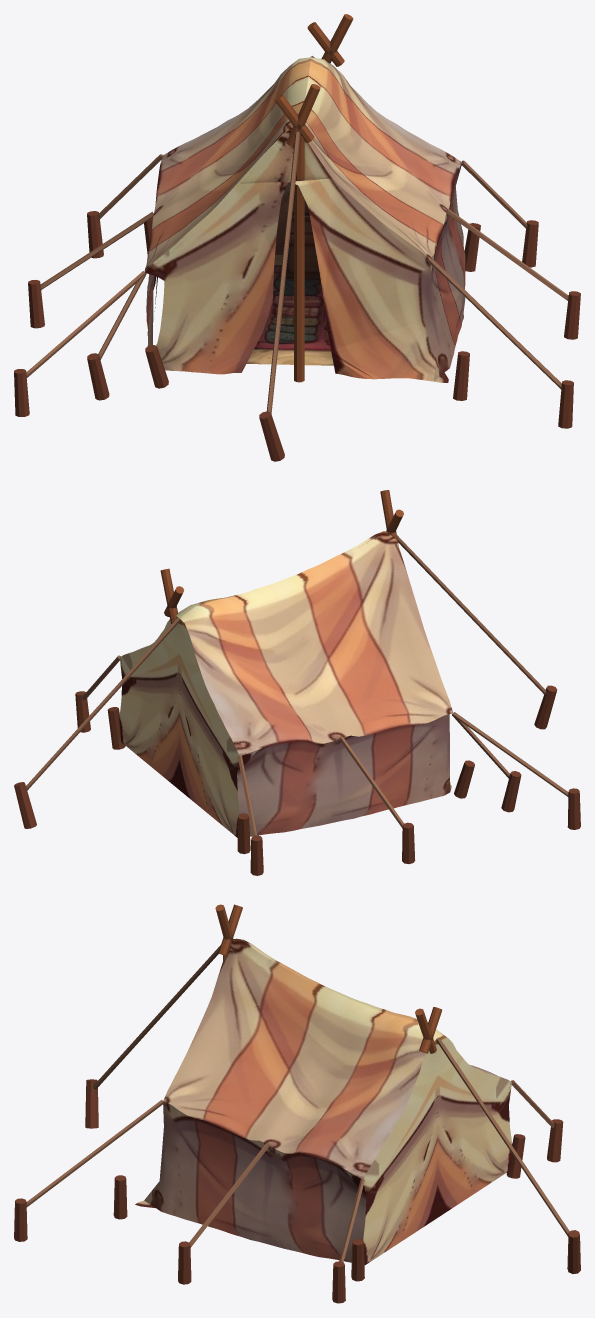
File: tente_nomade.glb
The picture shows the model from 3 angles, top to bottom: view 1: azimuth 30°, elevation 25°; view 2: azimuth 150°, elevation 25°; view 3: azimuth 270°, elevation 25°; orthographic projection. The views are drawn at different scales.
Visible parts, largest first — view 1: maison; view 2: maison; view 3: maison.
Part boxes in pixels (bbox=[...]): maison: bbox=[14, 14, 580, 461]; maison: bbox=[14, 490, 580, 875]; maison: bbox=[14, 904, 580, 1303].
Size of the model in its own units: 5.34 by 2.76 by 5.22.
Materials: 1 (1 with a texture image).
